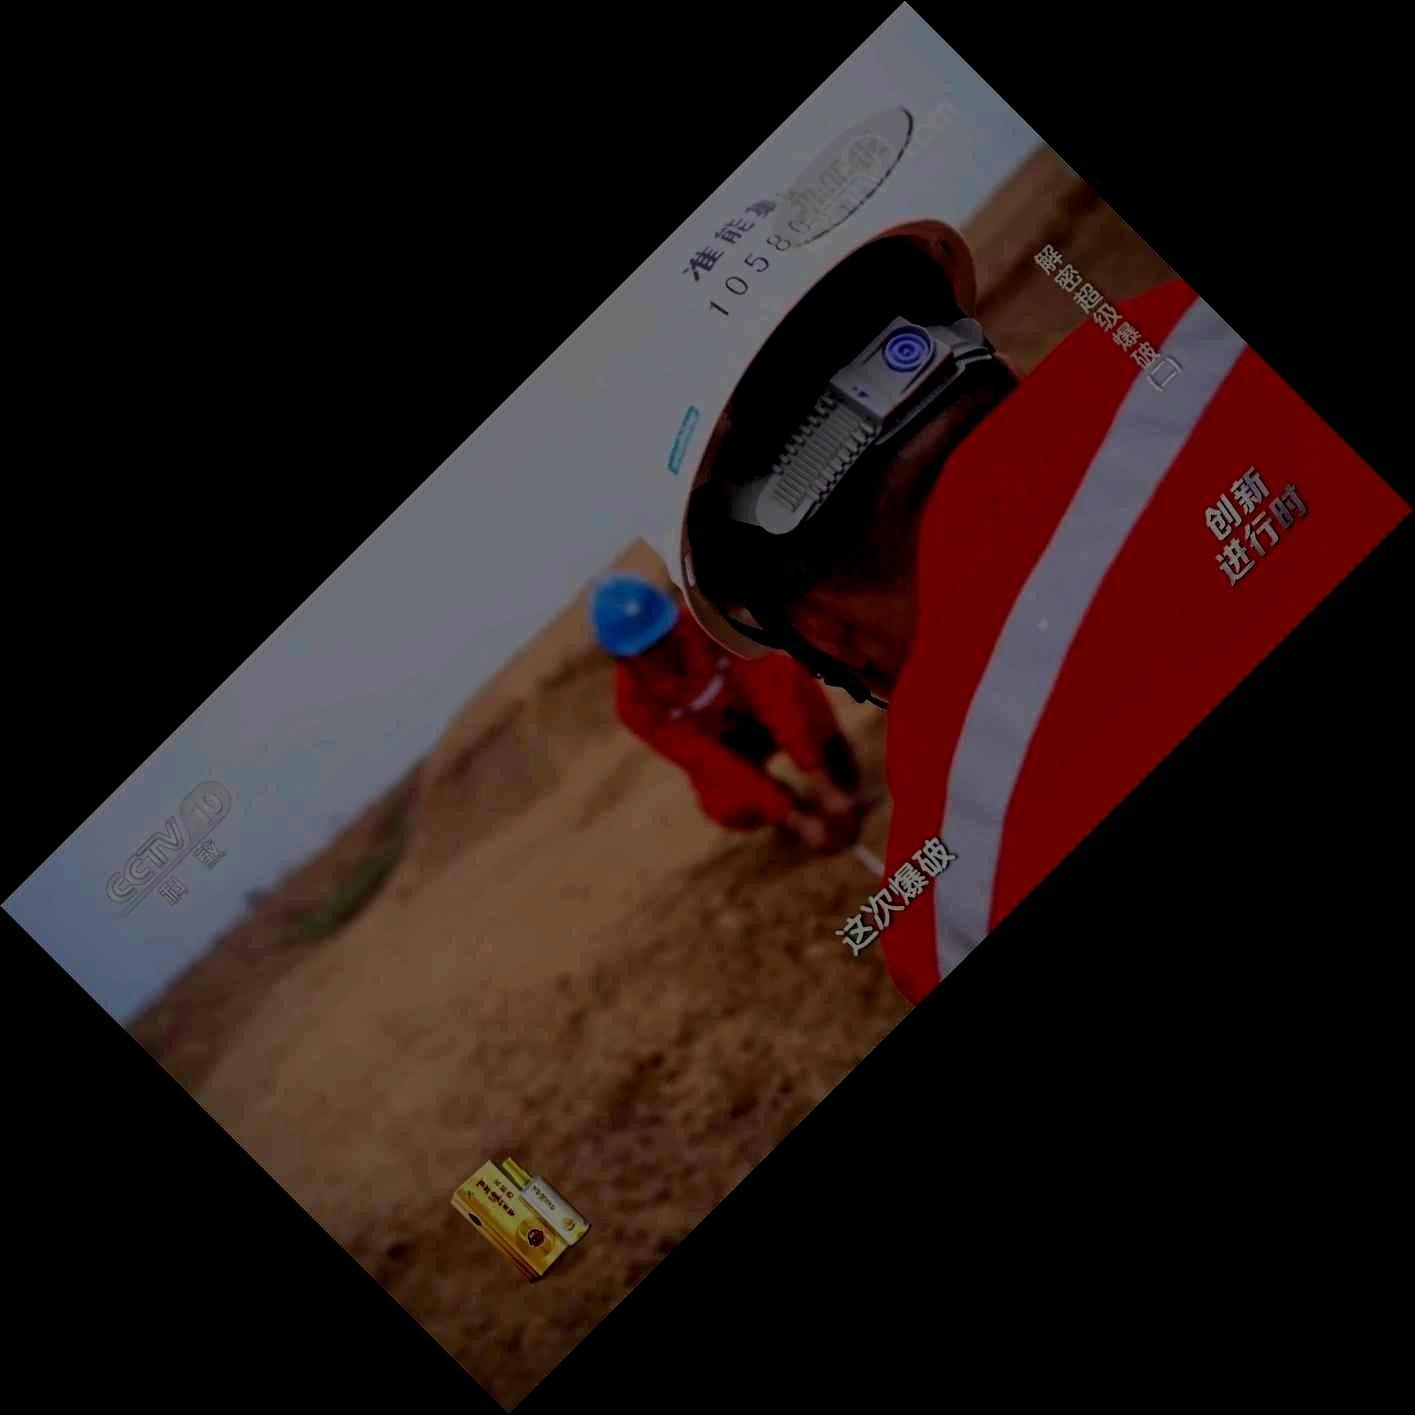helmet: (619, 179, 1021, 711), (586, 569, 682, 679)
